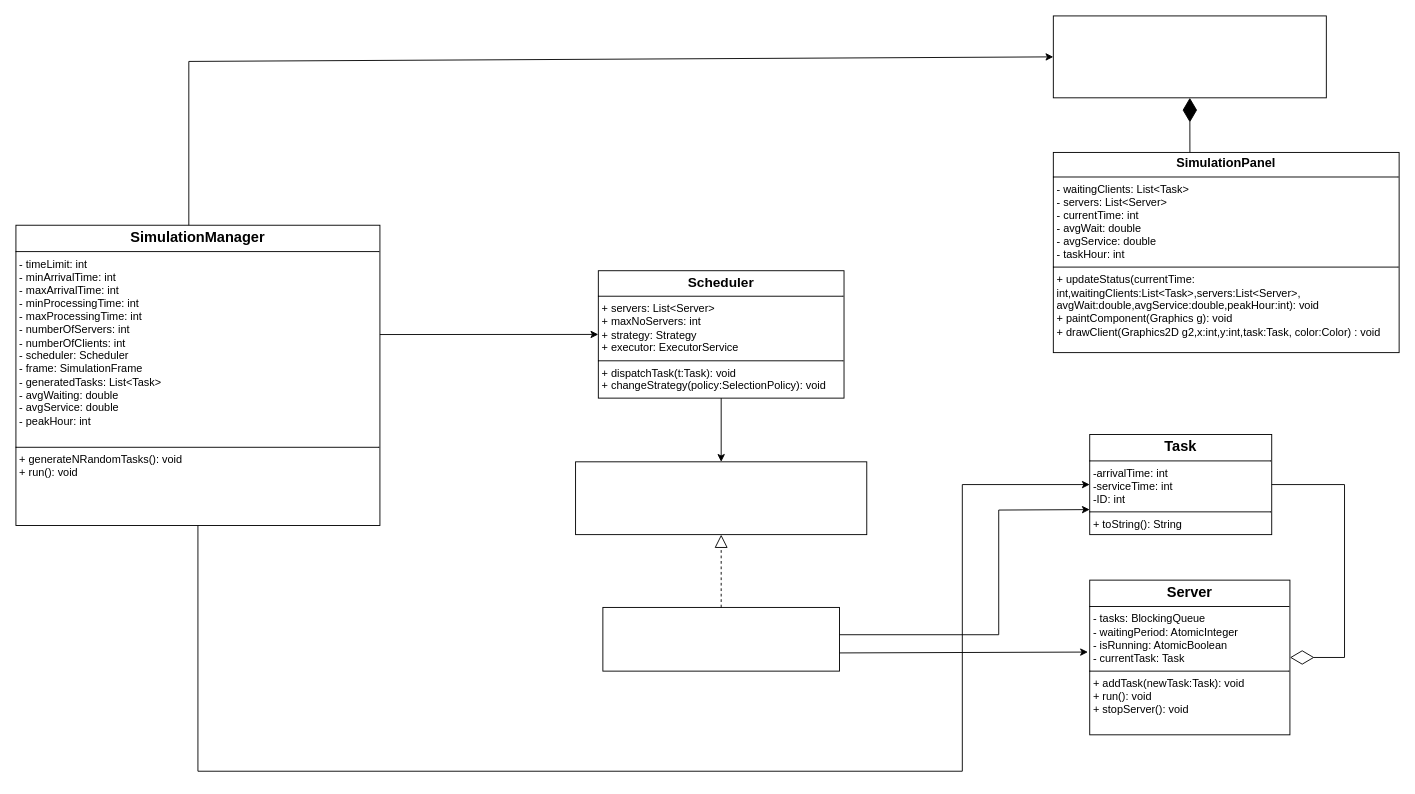
The diagram is 1415 pixels wide and 794 high, and some of its shapes have lost their labels. Each missing label, with the centre of its shape:
<<Interface>> Strategy + addTask(servers:List<Server>, t :Task): void: (721,498)
ConcreteStrategyTime + addTask(servers:List<Server>, t :Task): void: (720,639)
SimulationFrame - mainPanel: JPanel - simPanel: JPanel - startBtn: JButton: (1189,56)
